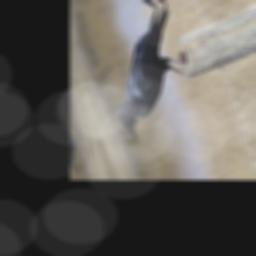Crow: (92, 3, 205, 147)
